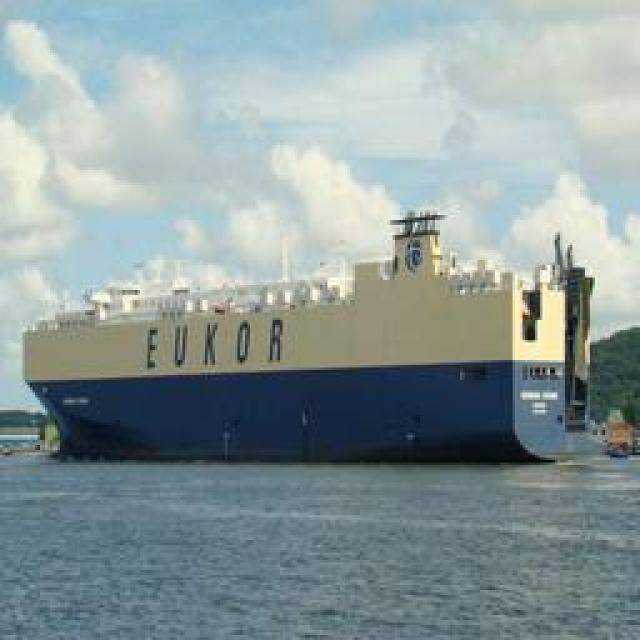CIV_Ship: (28, 236, 612, 466)
